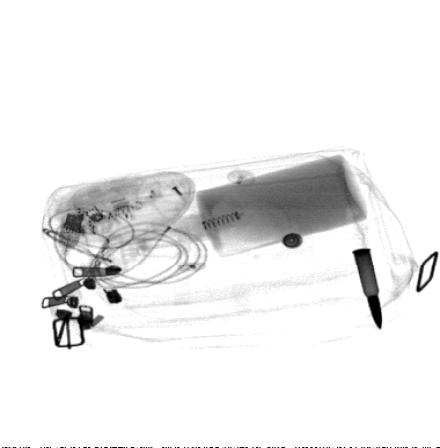Bullet: (351, 246, 383, 331)
